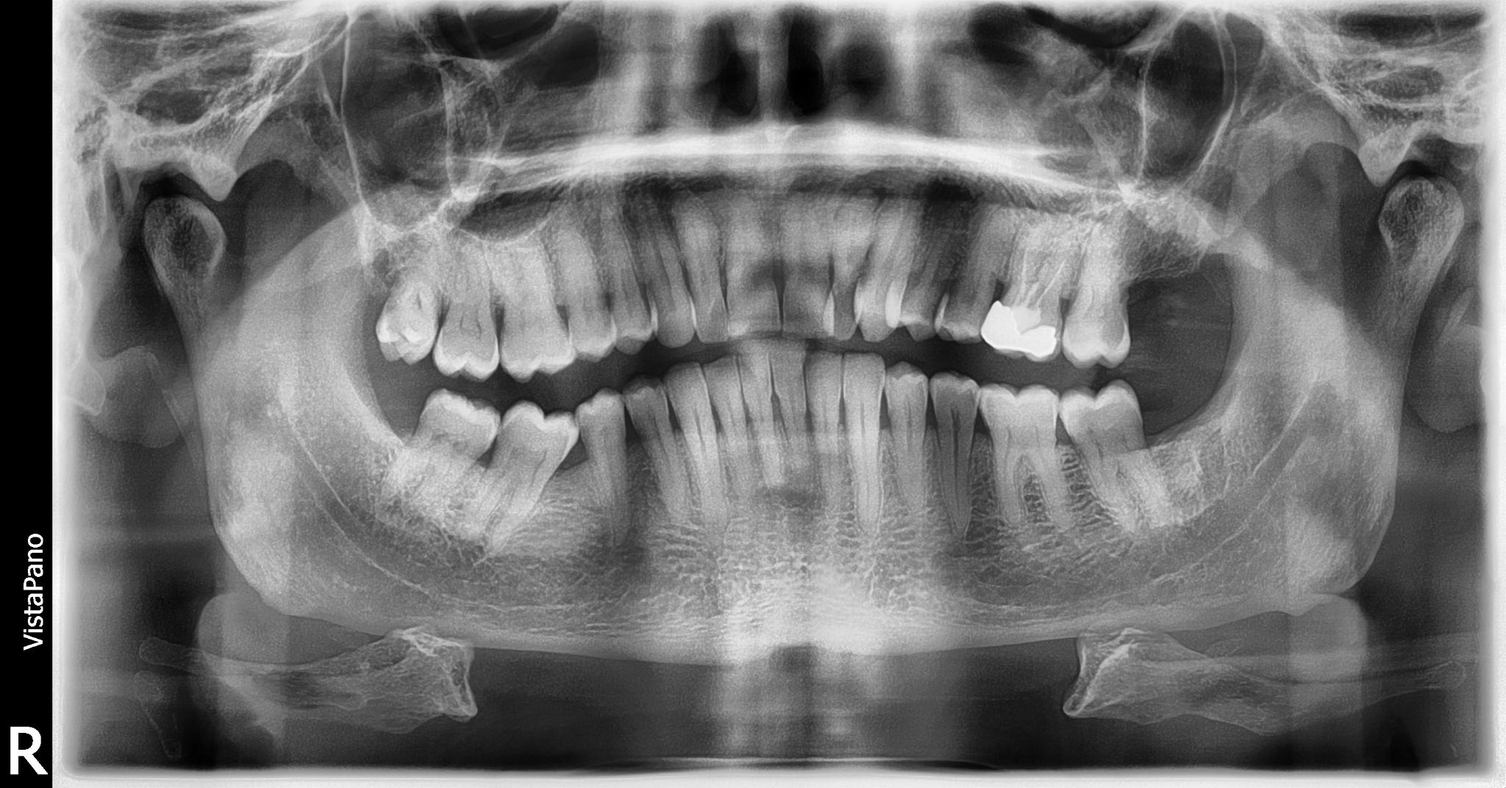Premolars: (458, 215, 1407, 765), (525, 160, 1506, 534), (282, 193, 876, 694), (238, 236, 685, 774), (169, 183, 594, 548)
